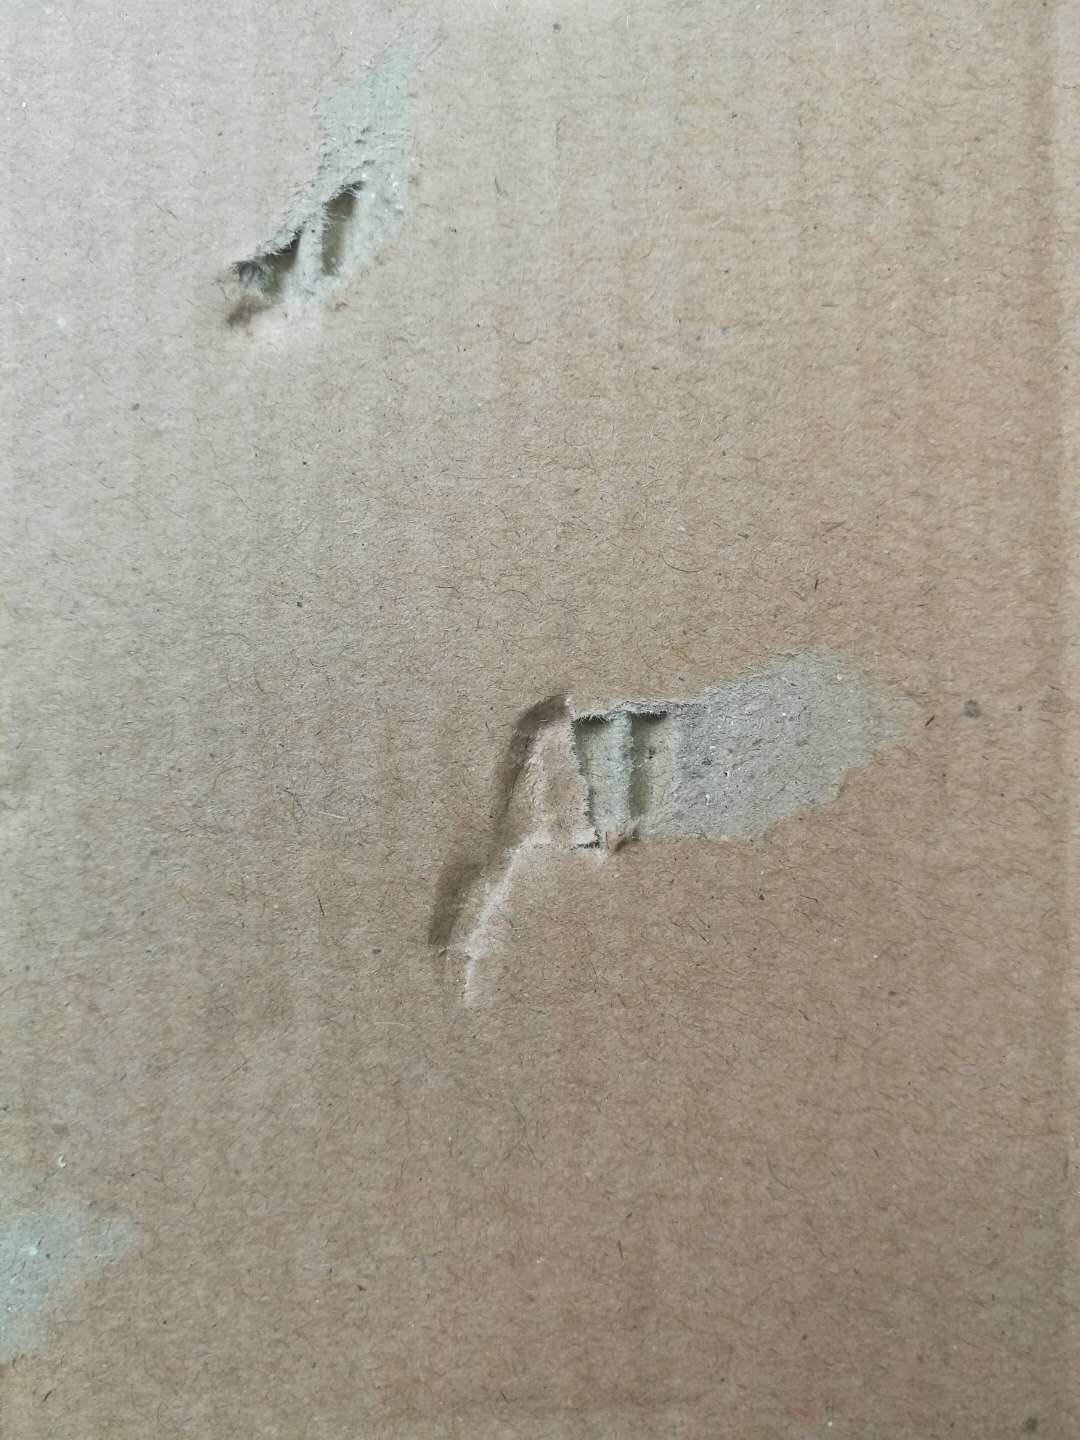defect: (393, 633, 955, 1019), (185, 7, 474, 369), (1, 1145, 166, 1390)
